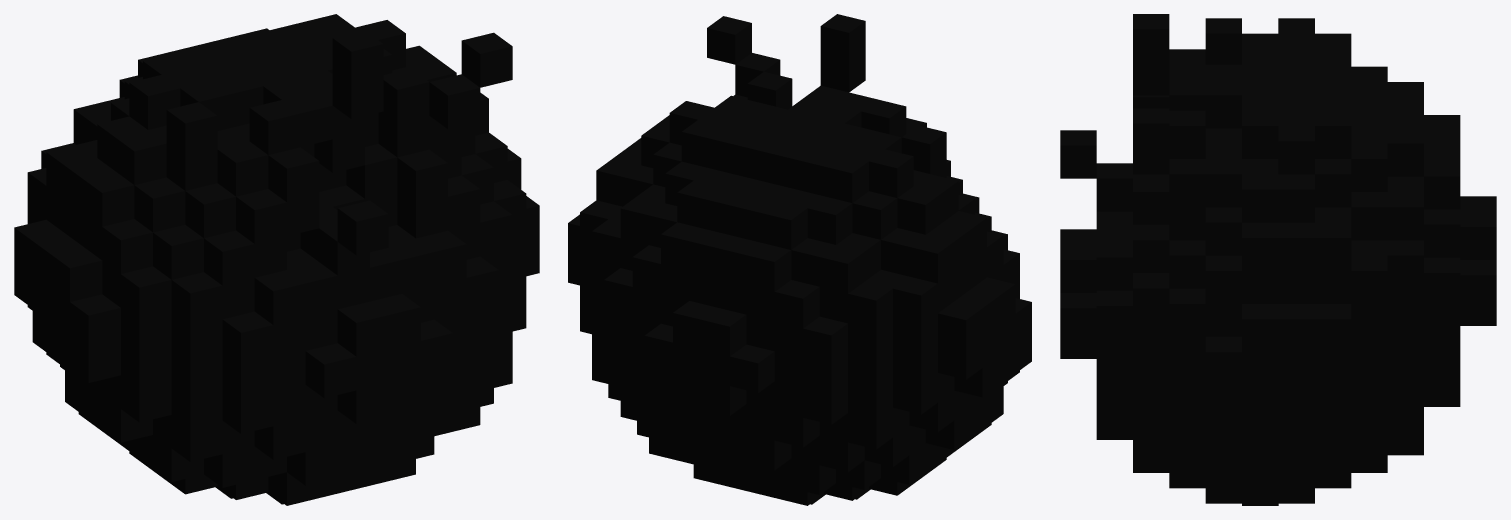
Rendered from Tomato.obj.
The picture shows the model from 3 angles, left to right: view 1: azimuth 30°, elevation 25°; view 2: azimuth 150°, elevation 25°; view 3: azimuth 270°, elevation 25°; orthographic projection. The views are drawn at different scales.
Visible parts, largest first — view 1: Tomato; view 2: Tomato; view 3: Tomato.
Part boxes in pixels (x1,y1,x2,y2): Tomato: (14, 14, 539, 505); Tomato: (568, 14, 1031, 505); Tomato: (1060, 14, 1496, 505).
Bounding box in the file's own units: 1.4 × 1.4 × 1.2.
